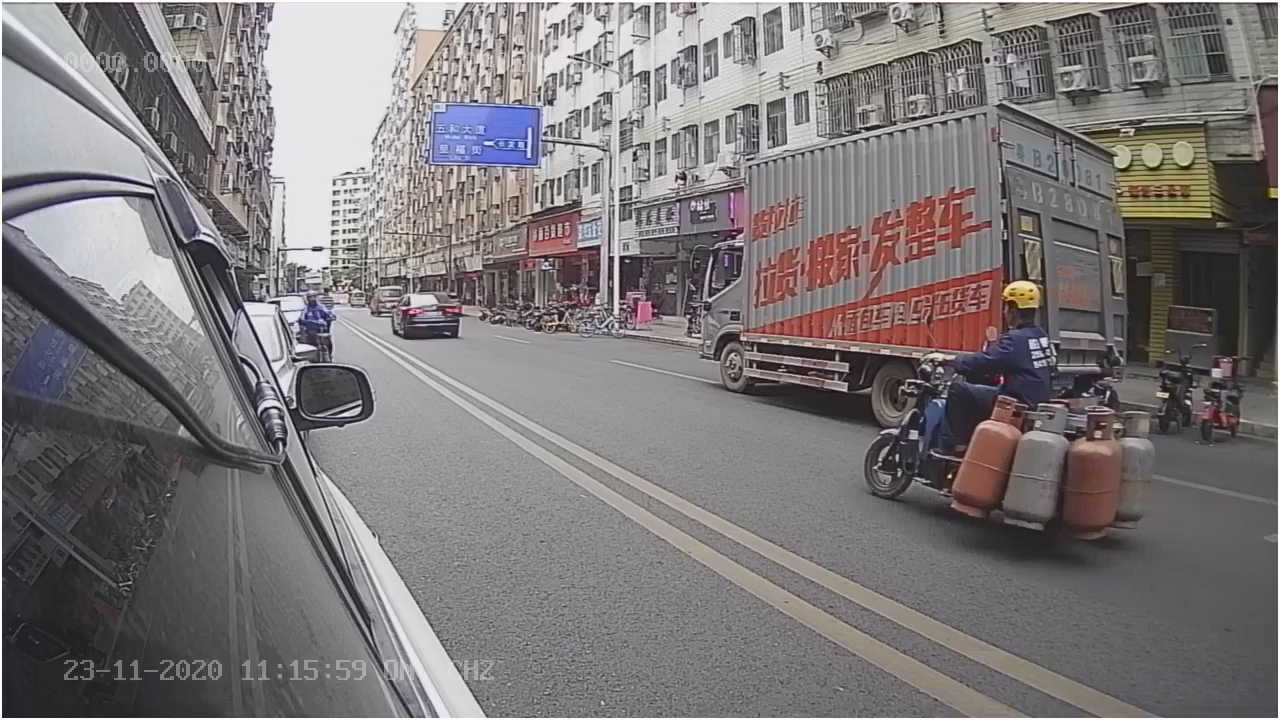person: (983, 276, 1062, 402)
